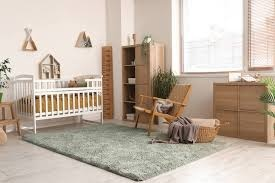crib: (12, 75, 102, 132)
